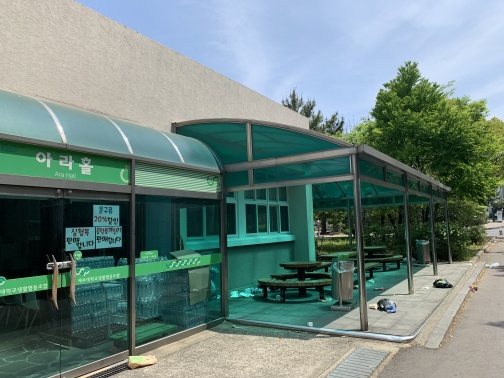Ara Hall: (1, 94, 451, 358)
